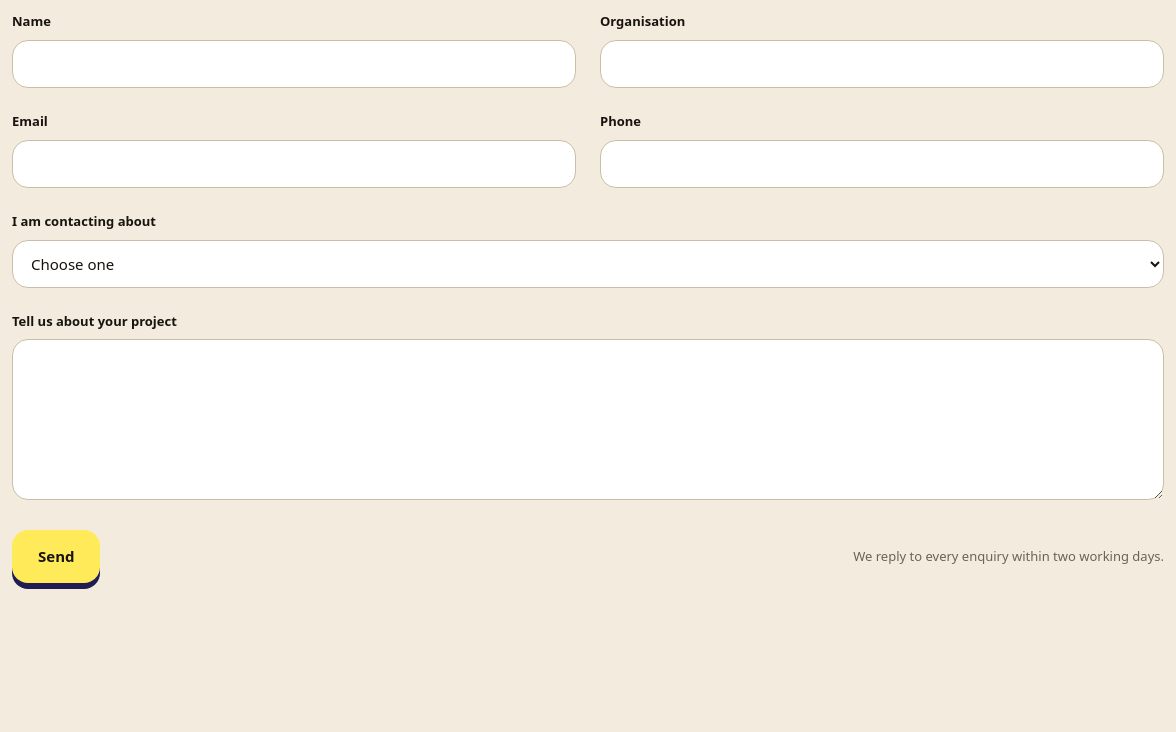
ContactForm › shows field errors returned by the action
Click the button "Send". click: (56, 556)
box: [12,530,100,582]
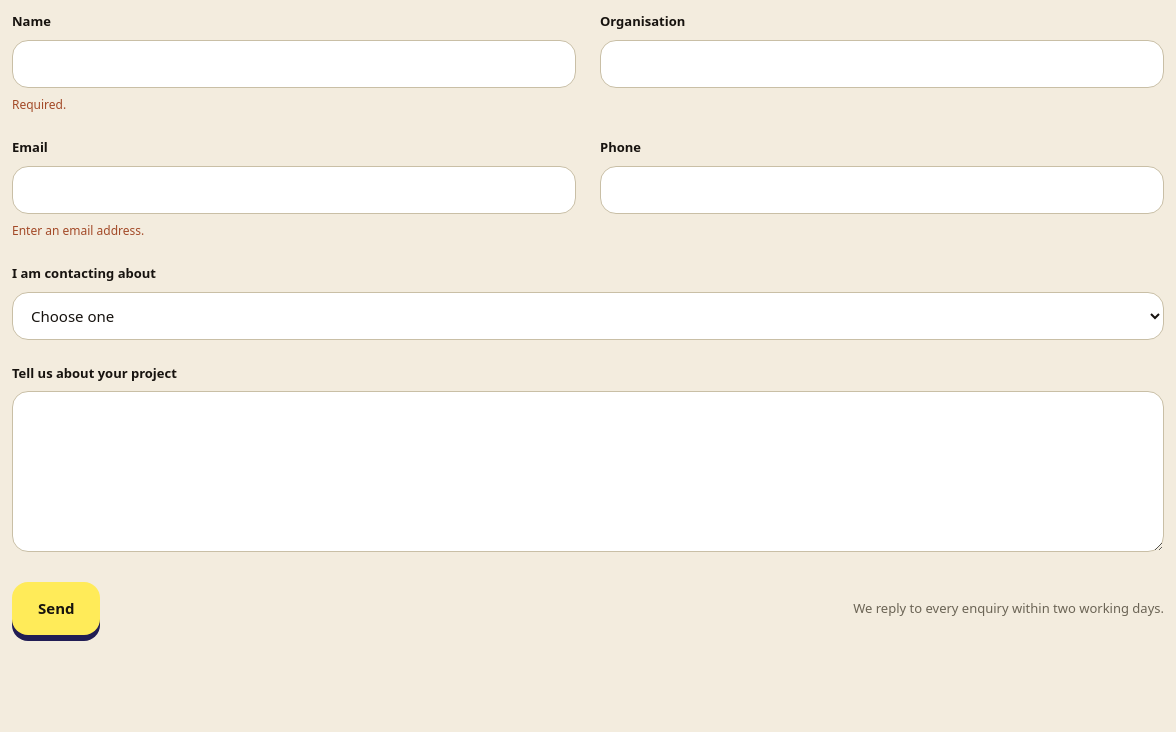
Check: the text "Required." is shown, box [12,96,66,113]
Check: the text "Enter an email address." is shown, box [12,222,144,239]
